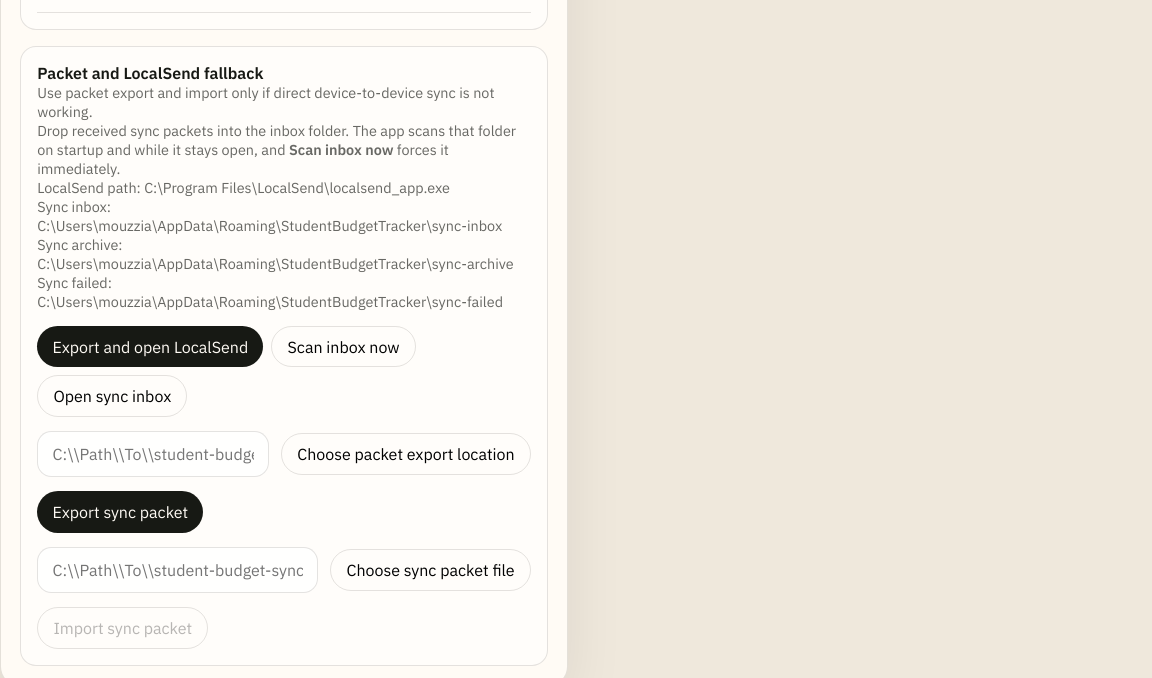
SettingsPage › scans the sync inbox and refreshes state
The image size is (1152, 678).
(page scrolled)
Click the button "Scan inbox now". click: (344,347)
box: [271,326,416,367]
(page scrolled)
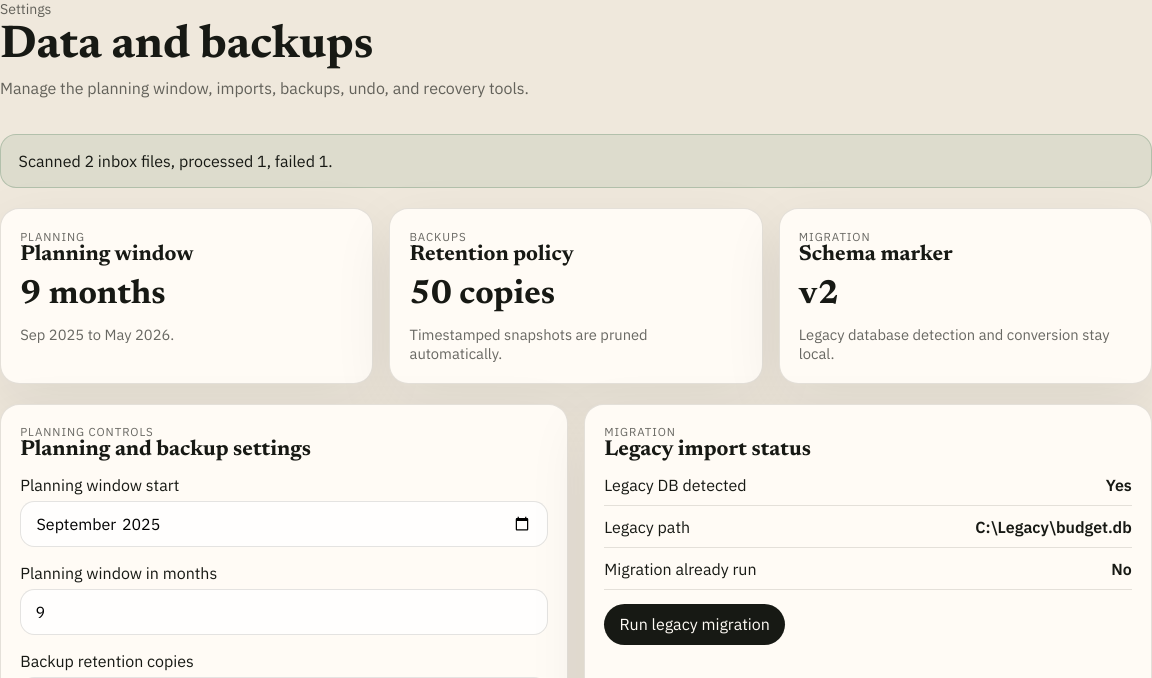
Expected: the text "Scanned 2 inbox files, processed 1, failed 1." is shown, [19,151,333,171]
